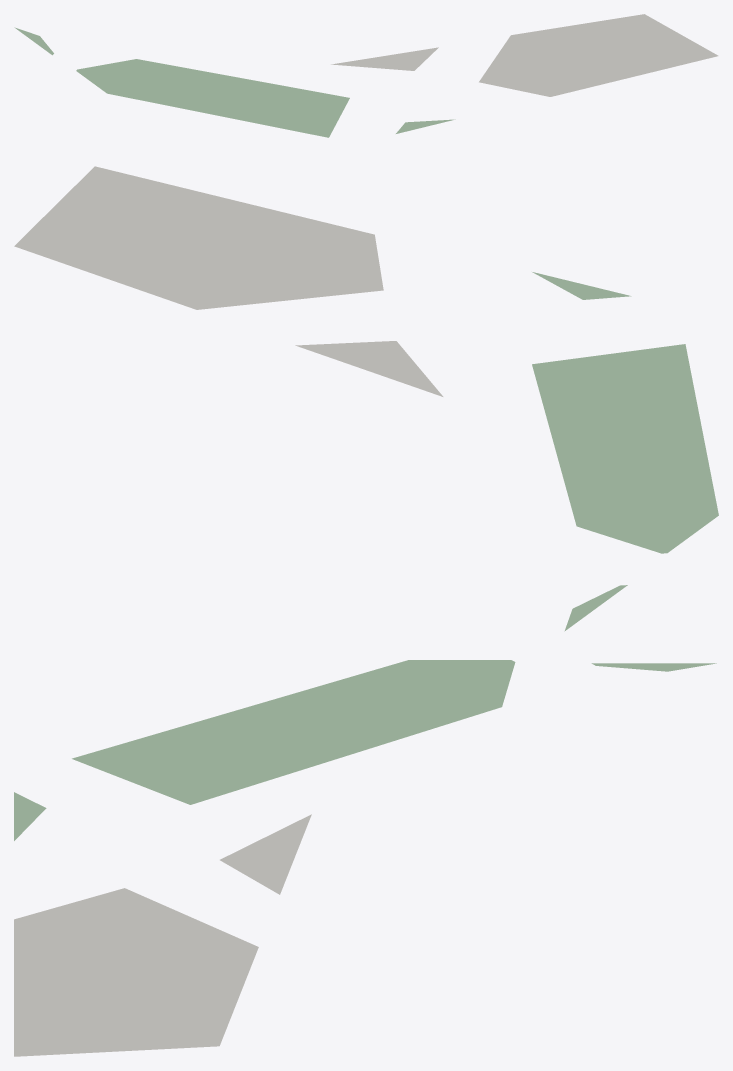
Rendered from 139_85_mid.glb.
3 views of the same model, one above another, from view 1: azimuth 30°, elevation 25°; view 2: azimuth 150°, elevation 25°; view 3: azimuth 270°, elevation 25° (orthographic). The views are drawn at different scales.
Bounding box in the file's own units: 378 × 4.36 × 280.
